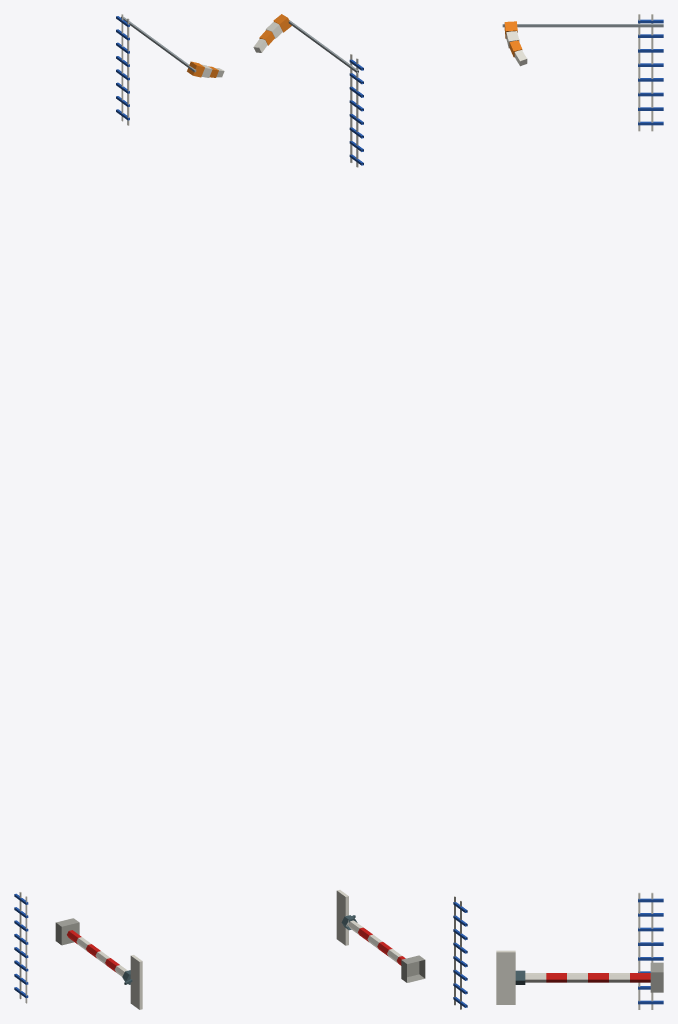
Rendered from frame_3.glb.
3 renders of one model, left to right at view 1: azimuth 30°, elevation 25°; view 2: azimuth 210°, elevation 25°; view 3: azimuth 270°, elevation 25°, orthographic. The views are drawn at different scales.
Visible parts, largest first — view 1: t0_0_g52.003, t1_8_g73.003; view 2: t0_0_g52.003, t1_8_g73.003; view 3: t0_0_g52.003, t1_8_g73.003.
Part boxes in pixels (x1=…): t0_0_g52.003: x1=14, y1=892, x2=142, y2=1009; t1_8_g73.003: x1=116, y1=14, x2=224, y2=125; t0_0_g52.003: x1=336, y1=890, x2=467, y2=1009; t1_8_g73.003: x1=253, y1=14, x2=363, y2=167; t0_0_g52.003: x1=496, y1=892, x2=663, y2=1009; t1_8_g73.003: x1=502, y1=14, x2=663, y2=131.
Bounding box in the file's own units: 22.75 × 144 × 20.8.
